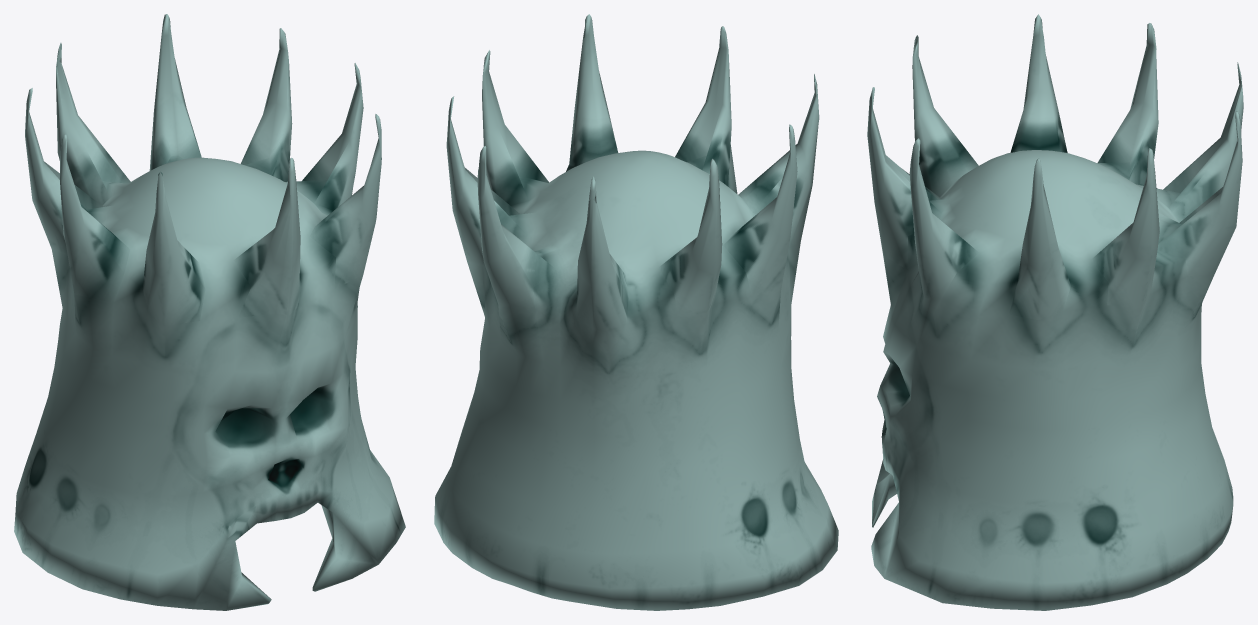
Rendered from Helmet.fbx.
3 renders of one model, left to right at view 1: azimuth 30°, elevation 25°; view 2: azimuth 150°, elevation 25°; view 3: azimuth 270°, elevation 25°, orthographic. The views are drawn at different scales.
Visible parts, largest first — view 1: Helmet; view 2: Helmet; view 3: Helmet.
Part boxes in pixels (x1,y1,x2,y2): Helmet: (14, 14, 405, 610); Helmet: (434, 14, 838, 610); Helmet: (867, 14, 1243, 610).
Size of the model in its own units: 342 by 423 by 317.
1 material, 1 textured.
